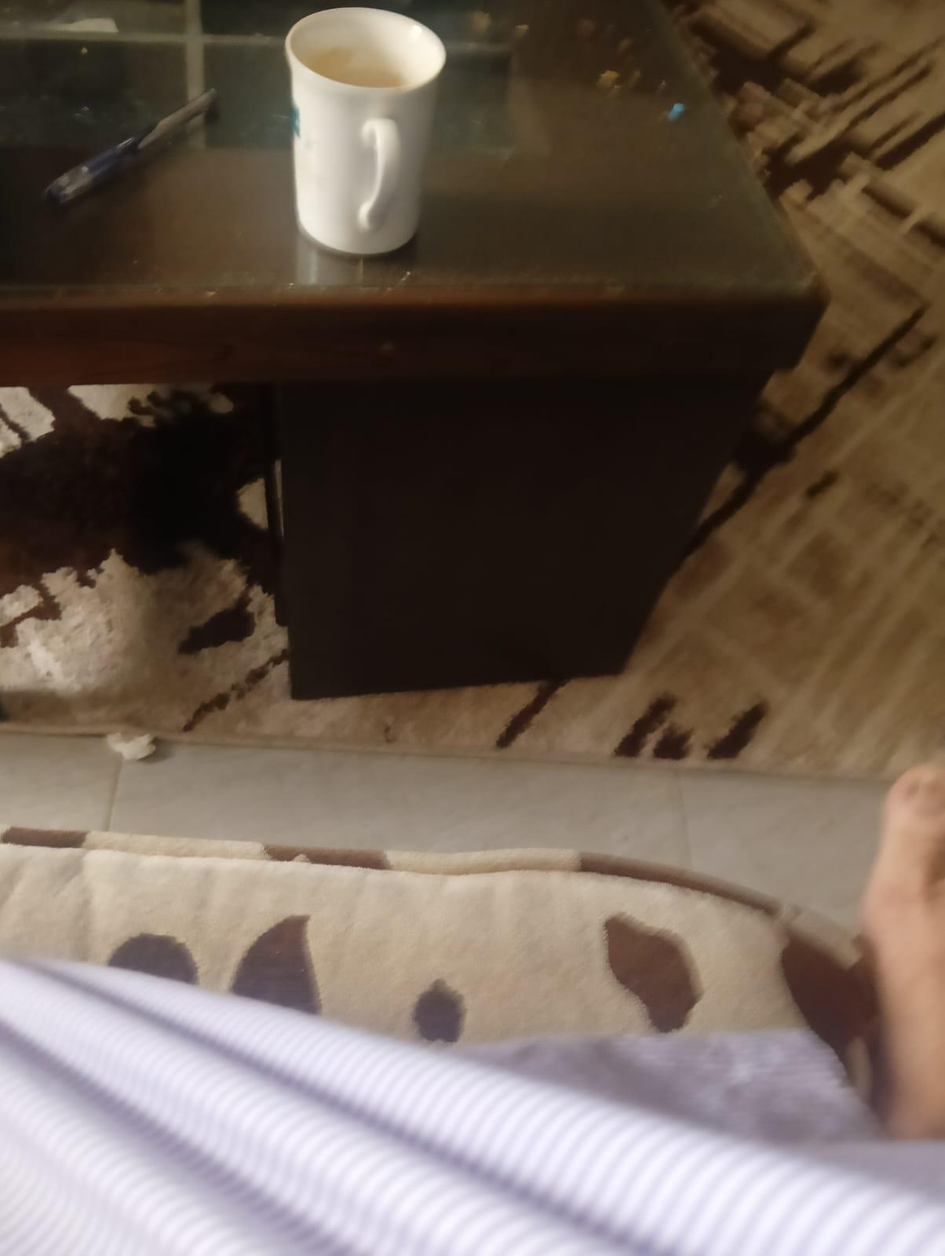cup: (286, 8, 445, 254)
